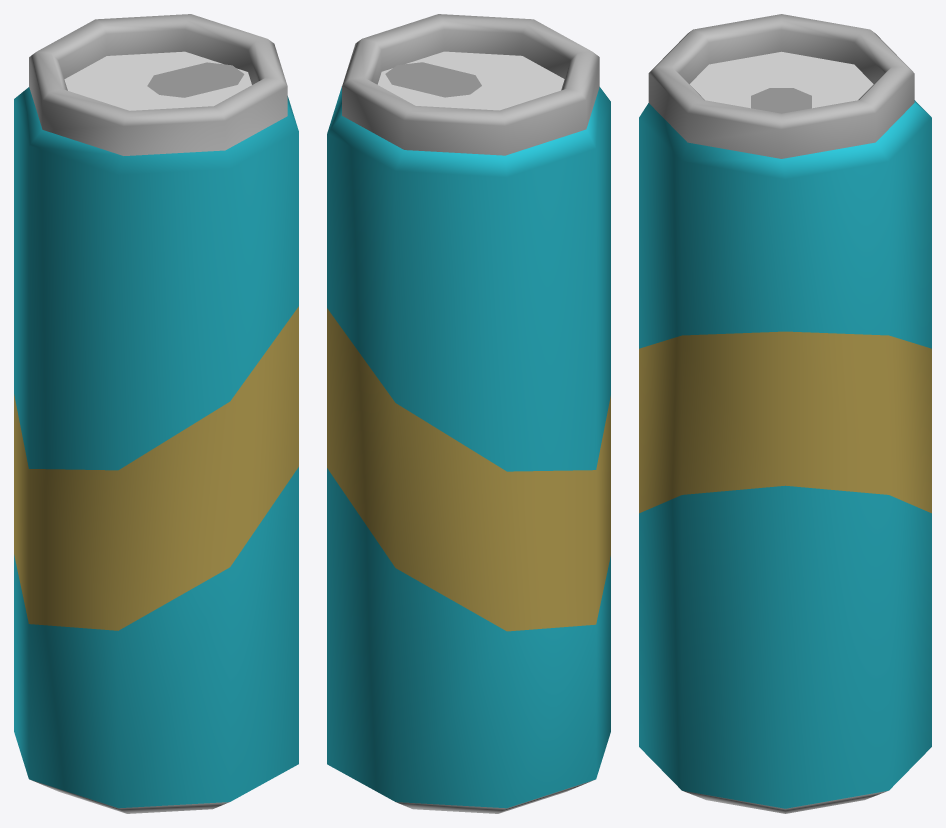
Rendered from prop_062.fbx.
3 views of the same model, side by side, from view 1: azimuth 30°, elevation 25°; view 2: azimuth 150°, elevation 25°; view 3: azimuth 270°, elevation 25° (orthographic).
Visible parts, largest first — view 1: prop_062; view 2: prop_062; view 3: prop_062.
Part boxes in pixels (bbox=[...]): prop_062: bbox=[14, 14, 298, 813]; prop_062: bbox=[327, 14, 610, 813]; prop_062: bbox=[639, 14, 931, 813].
Bounding box in the file's own units: 9.43 × 9.43 × 24.86.
